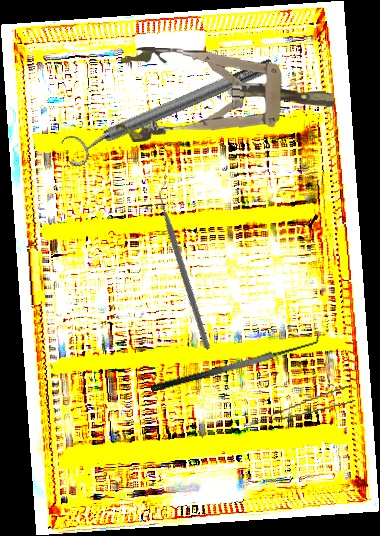Chopper: (100, 180, 274, 351)
Fixation Ring: (58, 48, 281, 171)
Spatula Surgical: (146, 328, 323, 394)
Speculum: (115, 46, 336, 149)
Tissue Forceps: (239, 385, 357, 427)
